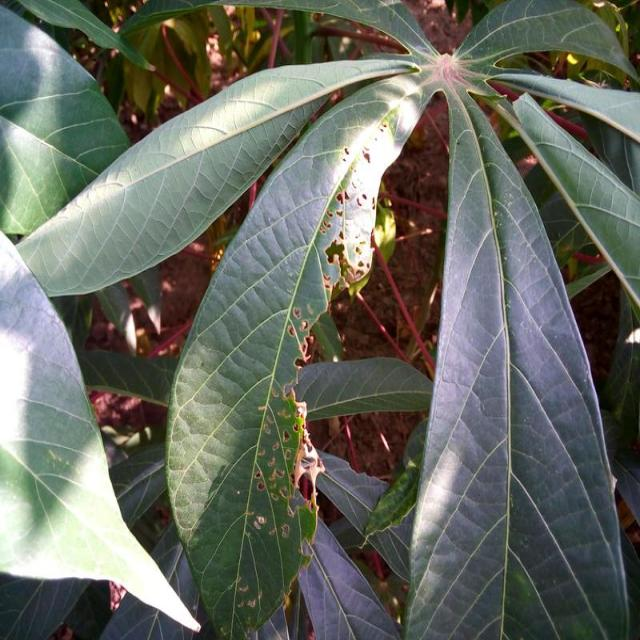cassava leaf: (1, 1, 638, 638), (162, 63, 429, 638), (401, 78, 633, 638), (12, 52, 422, 299), (0, 226, 200, 634)
